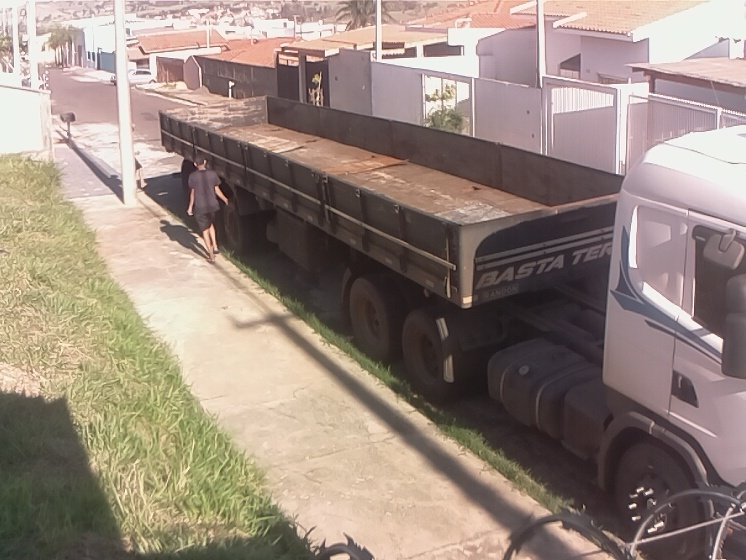person: (185, 151, 234, 265), (131, 123, 148, 193)
